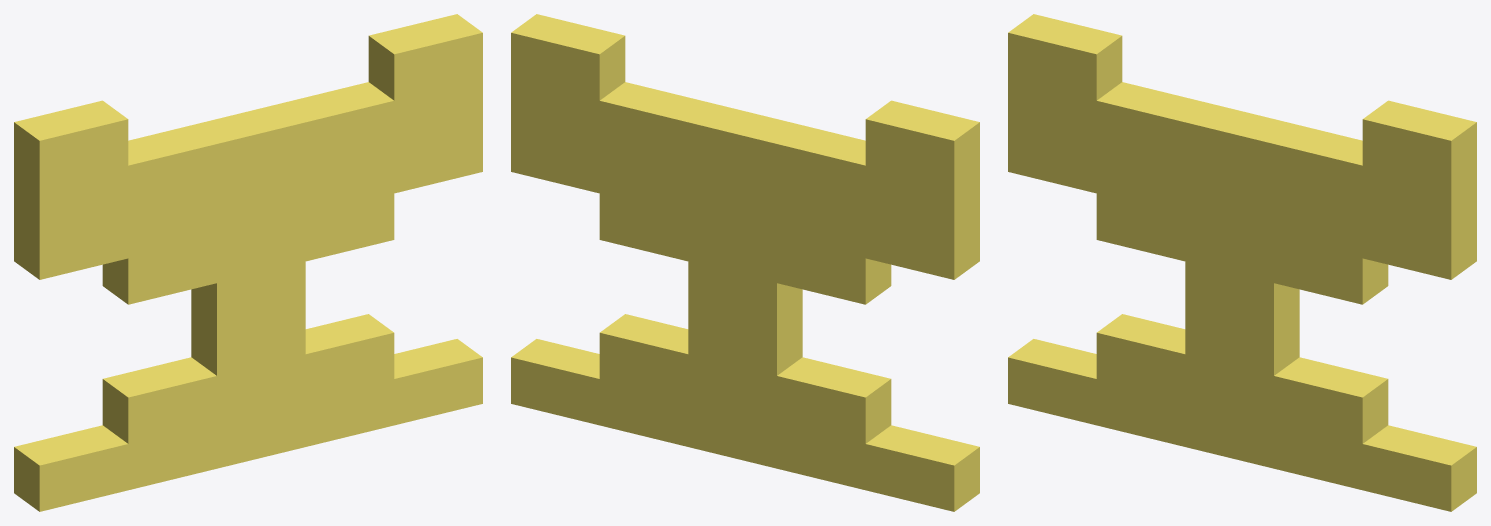
File: Chalice-Yellow.vox.obj
3 renders of one model, left to right at view 1: azimuth 30°, elevation 25°; view 2: azimuth 150°, elevation 25°; view 3: azimuth 330°, elevation 25°, orthographic.
Size of the model in its own units: 1 by 0.8 by 0.1.
1 material, 1 textured.
